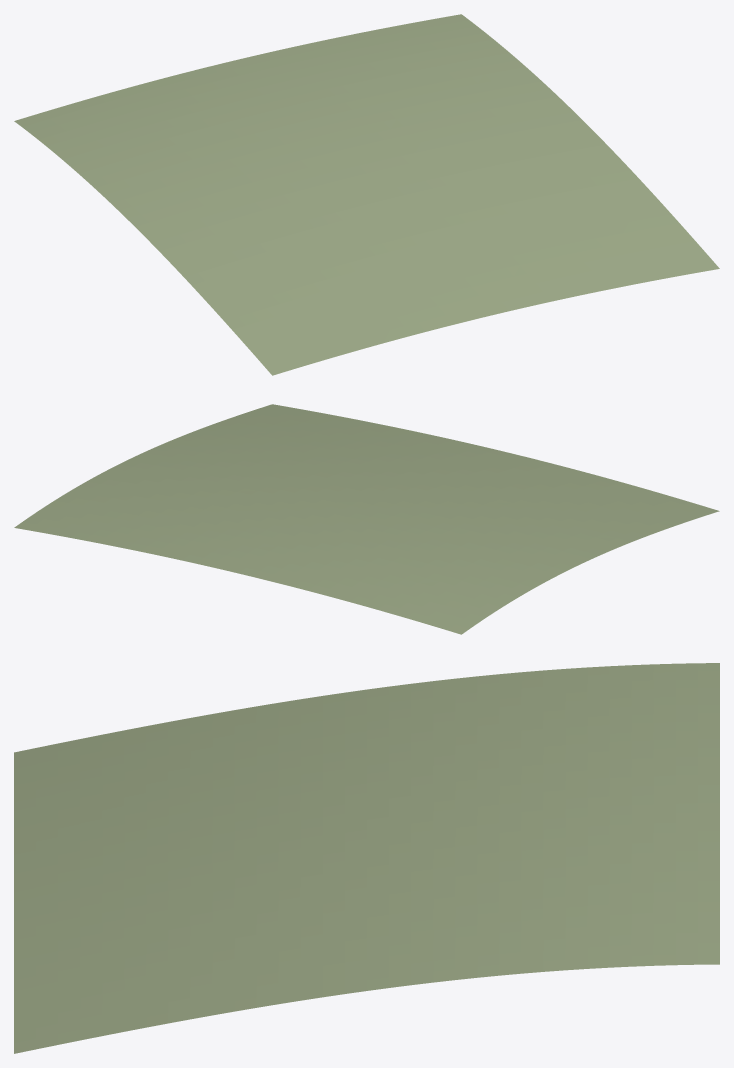
File: valley-15-1.glb
3 renders of one model, top to bottom at view 1: azimuth 30°, elevation 25°; view 2: azimuth 150°, elevation 25°; view 3: azimuth 270°, elevation 25°, orthographic. The views are drawn at different scales.
Visible parts, largest first — view 1: valley-15-1; view 2: valley-15-1; view 3: valley-15-1.
Part boxes in pixels (left/top/right/bottom): valley-15-1: left=14, top=14, right=719, bottom=375; valley-15-1: left=14, top=404, right=719, bottom=634; valley-15-1: left=14, top=663, right=719, bottom=1053.
Size of the model in its own units: 256 by 40.81 by 256.
